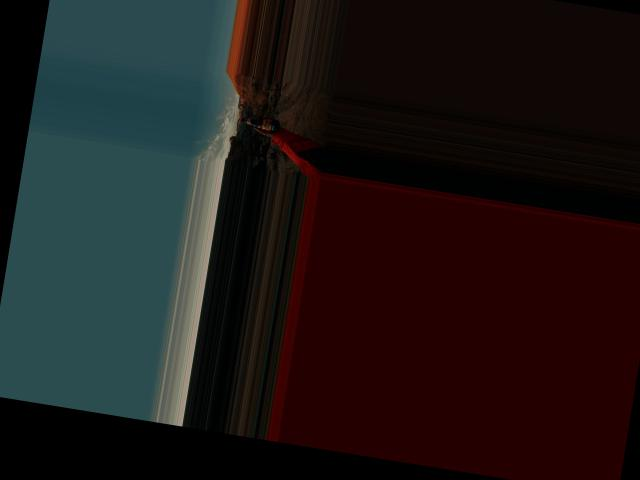beer: (240, 113, 279, 132)
